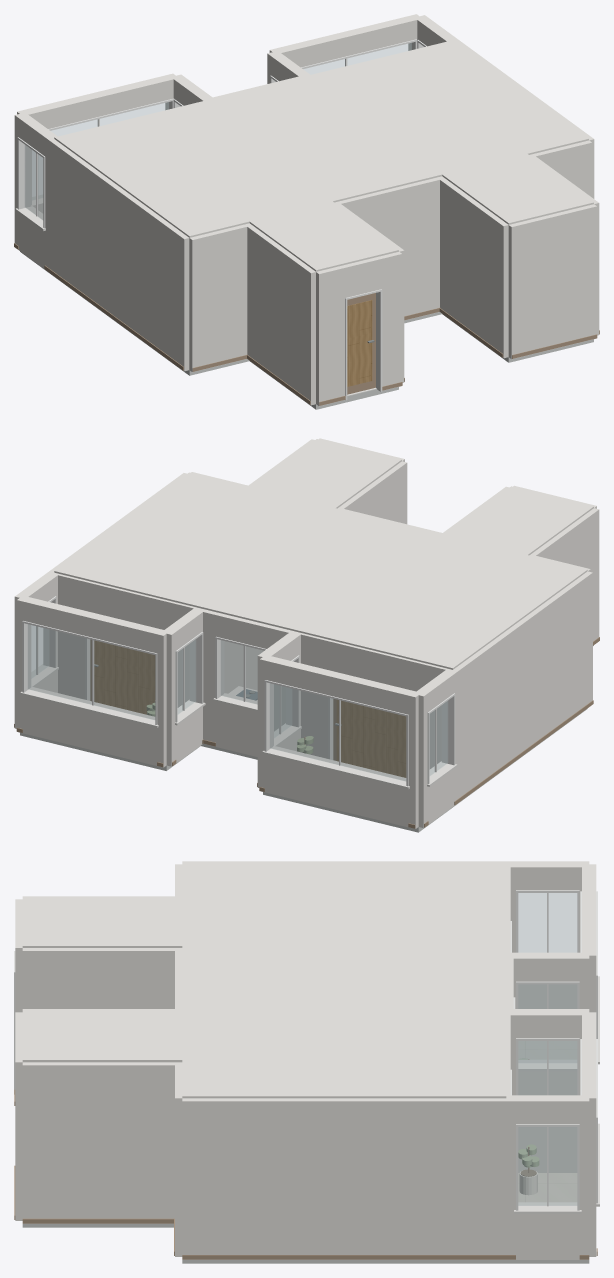
The model's file is one-06.glb.
The picture shows the model from 3 angles, top to bottom: view 1: azimuth 30°, elevation 25°; view 2: azimuth 150°, elevation 25°; view 3: azimuth 270°, elevation 25°; orthographic projection. The views are drawn at different scales.
Visible parts, largest first — view 1: 一居06_architecture_plaster, 一居06_ceiling_plaster, 一居06_frames_ceramic, 一居06_glass_glass, 一居06_trim_wood, 门扇_entry_oak, 一居06_slab_slab, 门扇_entry_wood; view 2: 一居06_architecture_plaster, 一居06_ceiling_plaster, 一居06_glass_glass, 一居06_frames_ceramic, 一居06_frames_marble, 门扇_west-bal-door_oak, 门扇_east-bal-door_oak, 一居06_slab_slab, 一居06_trim_wood; view 3: 一居06_architecture_plaster, 一居06_ceiling_plaster, 一居06_glass_glass, 一居06_frames_ceramic, 一居06_trim_wood, 一居06_floor_tile, 一居06_slab_slab, 一居06_frames_marble.
Part boxes in pixels (x1,y1,x2,y2): 一居06_architecture_plaster: (14,14,599,406); 一居06_ceiling_plaster: (54,40,593,271); 一居06_frames_ceramic: (17,39,426,400); 一居06_glass_glass: (25,43,411,219); 一居06_trim_wood: (14,243,599,405); 门扇_entry_oak: (347,300,372,386); 一居06_slab_slab: (20,251,593,409); 门扇_entry_wood: (347,293,375,394); 一居06_architecture_plaster: (14,438,599,828); 一居06_ceiling_plaster: (54,439,593,669); 一居06_glass_glass: (28,624,447,781); 一居06_frames_ceramic: (22,596,455,786); 一居06_frames_marble: (20,664,457,789); 门扇_west-bal-door_oak: (336,699,406,777); 门扇_east-bal-door_oak: (94,640,155,714); 一居06_slab_slab: (20,645,593,832); 一居06_trim_wood: (14,637,599,828); 一居06_architecture_plaster: (15,861,596,1259); 一居06_ceiling_plaster: (22,862,506,1098); 一居06_glass_glass: (518,893,577,1205); 一居06_frames_ceramic: (14,890,597,1210); 一居06_trim_wood: (14,1089,597,1259); 一居06_floor_tile: (518,1041,577,1202); 一居06_slab_slab: (22,1224,589,1263); 一居06_frames_marble: (514,976,599,1213).
Bounding box in the file's own units: 9.04 × 2.91 × 9.21.
18 materials, 2 textured.
